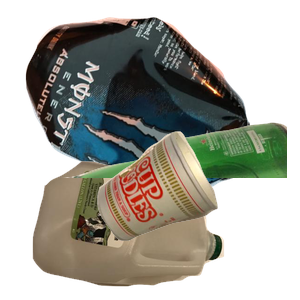glass: (60, 120, 300, 300)
metal: (23, 15, 263, 195)
plastic: (30, 159, 247, 300)
trash: (95, 129, 300, 300)
